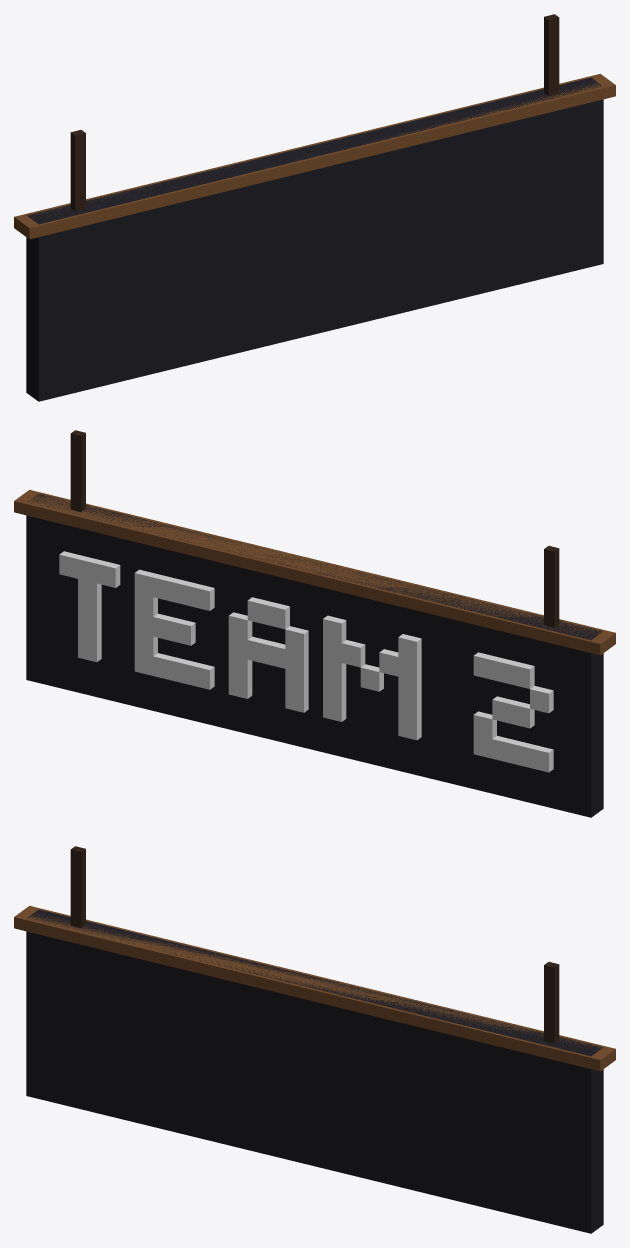
The model's file is tt-sign-team-2.glb.
3 renders of one model, top to bottom at view 1: azimuth 30°, elevation 25°; view 2: azimuth 150°, elevation 25°; view 3: azimuth 330°, elevation 25°, orthographic.
Parts seen in each view (by area): view 1: box-prop; view 2: box-prop; view 3: box-prop.
Boxes of the visible parts, left/top/right/bottom form: box-prop: left=14, top=14, right=615, bottom=401; box-prop: left=14, top=430, right=615, bottom=817; box-prop: left=14, top=846, right=615, bottom=1233.
Size of the model in its own units: 2.18 by 0.9 by 0.12.
